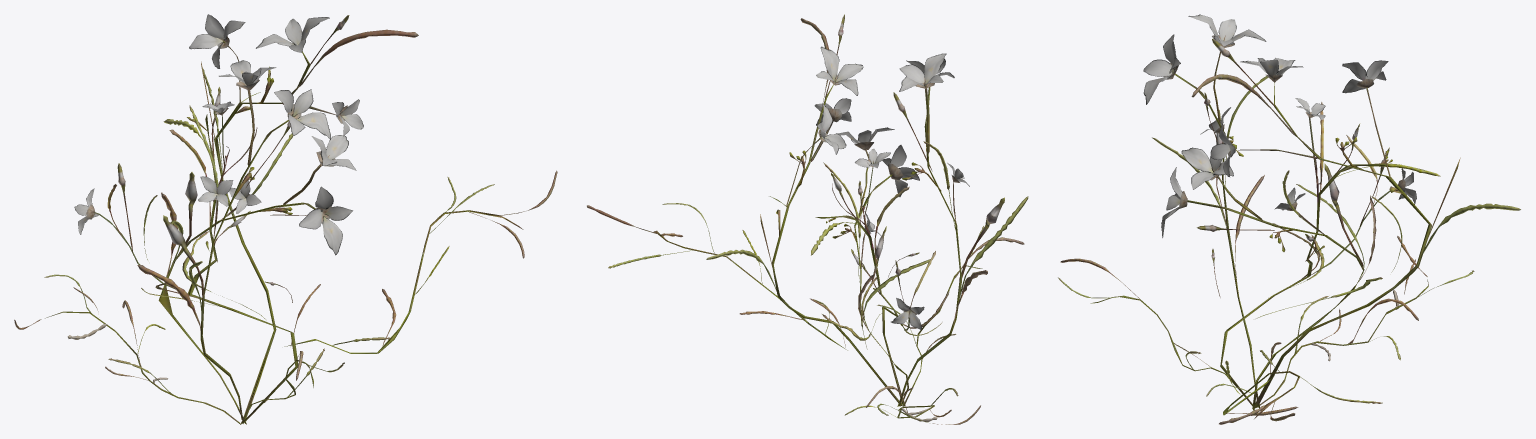
File: WhiteFlowers_Small.fbx
3 views of the same model, side by side, from view 1: azimuth 30°, elevation 25°; view 2: azimuth 150°, elevation 25°; view 3: azimuth 270°, elevation 25° (orthographic). The views are drawn at different scales.
Parts seen in each view (by area): view 1: WhiteFlowers_Small; view 2: WhiteFlowers_Small; view 3: WhiteFlowers_Small.
Boxes of the visible parts, <box> form: WhiteFlowers_Small: <box>14,14,557,424</box>; WhiteFlowers_Small: <box>587,14,1028,424</box>; WhiteFlowers_Small: <box>1058,14,1520,424</box>.
Bounding box in the file's own units: 0.3436 × 0.27 × 0.2742.
Materials: 1 (1 with a texture image).
